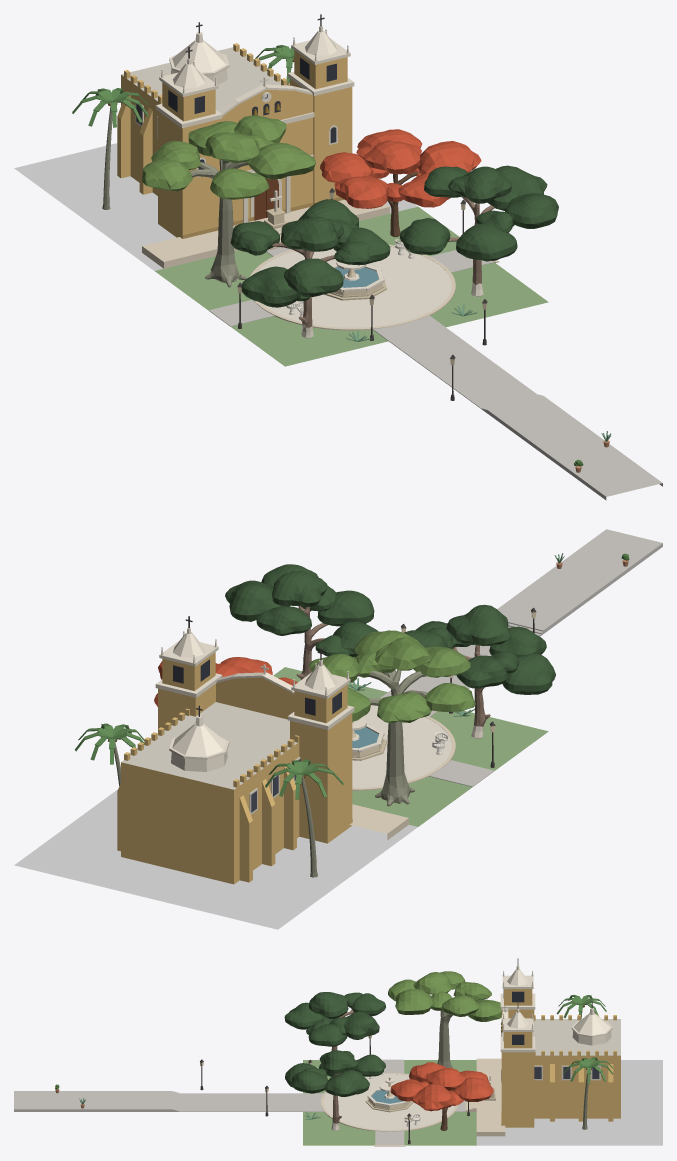
The model's file is barrio_plaza.glb.
3 renders of one model, top to bottom at view 1: azimuth 30°, elevation 25°; view 2: azimuth 150°, elevation 25°; view 3: azimuth 270°, elevation 25°, orthographic. The views are drawn at different scales.
Parts seen in each view (by area): view 1: plaza_fachadas, plaza_laurel_copa, plaza_banqueta, plaza_pasto, plaza_ceiba_copa, plaza_pasto_c, plaza_flamboyan_copa, plaza_plaza, plaza_cantera, plaza_palma_copa; view 2: plaza_fachadas, plaza_pasto_c, plaza_laurel_copa, plaza_banqueta, plaza_ceiba_copa, plaza_pasto, plaza_plaza, plaza_palma_copa, plaza_cantera, plaza_flamboyan_copa; view 3: plaza_fachadas, plaza_laurel_copa, plaza_banqueta, plaza_pasto_c, plaza_pasto, plaza_ceiba_copa, plaza_flamboyan_copa, plaza_plaza, plaza_cantera, plaza_palma_copa, plaza_herreria.
Boxes of the visible parts, x1,y1,x2,y2 form: plaza_fachadas: [102, 26, 611, 472]; plaza_laurel_copa: [230, 165, 558, 307]; plaza_banqueta: [209, 247, 662, 500]; plaza_pasto: [155, 206, 548, 366]; plaza_ceiba_copa: [142, 115, 315, 199]; plaza_pasto_c: [14, 143, 417, 270]; plaza_flamboyan_copa: [320, 129, 481, 208]; plaza_plaza: [257, 246, 451, 327]; plaza_cantera: [142, 199, 499, 330]; plaza_palma_copa: [72, 45, 294, 127]; plaza_fachadas: [108, 553, 629, 884]; plaza_pasto_c: [14, 789, 417, 929]; plaza_laurel_copa: [225, 564, 555, 694]; plaza_banqueta: [380, 529, 662, 786]; plaza_ceiba_copa: [308, 630, 475, 723]; plaza_pasto: [273, 667, 548, 826]; plaza_plaza: [352, 705, 451, 787]; plaza_palma_copa: [75, 723, 343, 799]; plaza_cantera: [349, 716, 455, 840]; plaza_flamboyan_copa: [154, 657, 297, 706]; plaza_fachadas: [55, 965, 620, 1130]; plaza_laurel_copa: [284, 992, 385, 1096]; plaza_banqueta: [14, 1059, 465, 1144]; plaza_pasto_c: [476, 1060, 662, 1145]; plaza_pasto: [303, 1060, 476, 1145]; plaza_ceiba_copa: [388, 971, 501, 1021]; plaza_flamboyan_copa: [390, 1062, 493, 1111]; plaza_plaza: [323, 1074, 455, 1129]; plaza_cantera: [320, 1058, 505, 1146]; plaza_palma_copa: [556, 995, 613, 1084]; plaza_herreria: [200, 958, 592, 1144].
Size of the model in its own units: 34.43 by 19.48 by 89.8.
